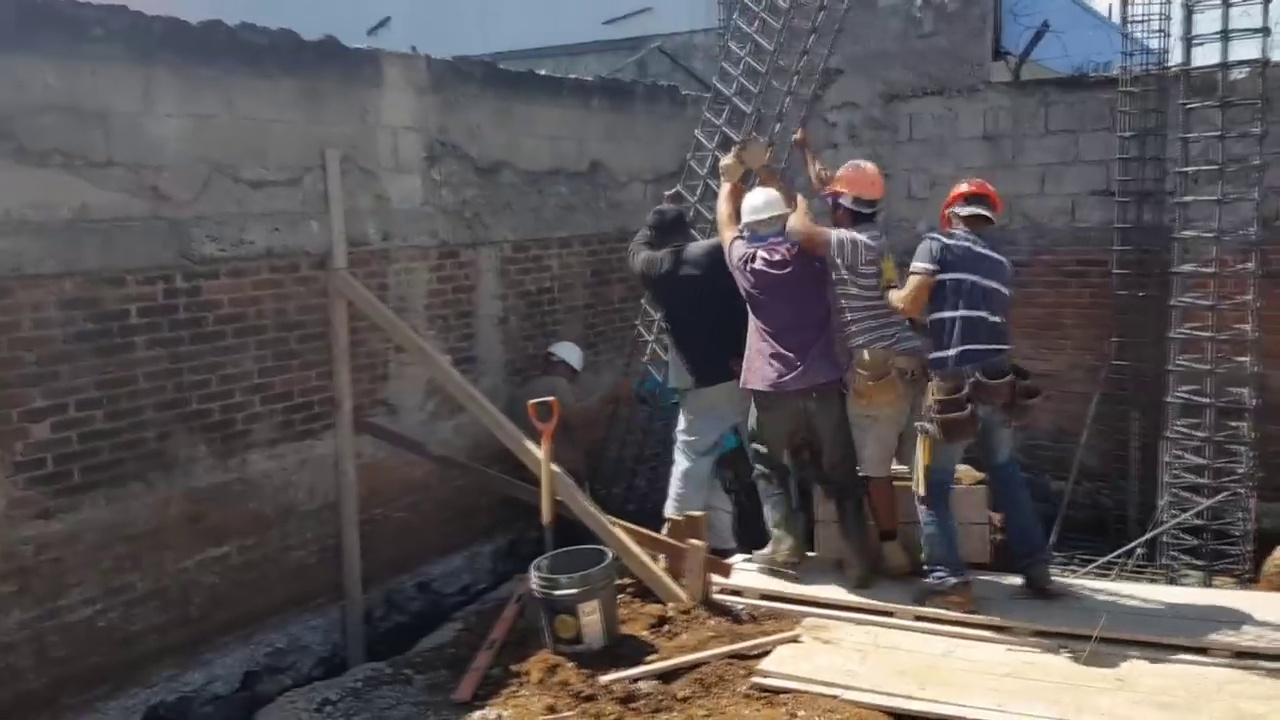helmet: (938, 172, 1003, 225), (821, 158, 887, 202), (742, 177, 788, 231), (543, 337, 586, 373)
helmet-off: (645, 195, 685, 241)
helmet-on: (822, 158, 886, 231), (936, 174, 1003, 242), (739, 178, 793, 252), (542, 337, 587, 386)
person: (883, 173, 1063, 603), (788, 149, 924, 591), (715, 148, 840, 573), (631, 199, 763, 575), (511, 334, 628, 497)
